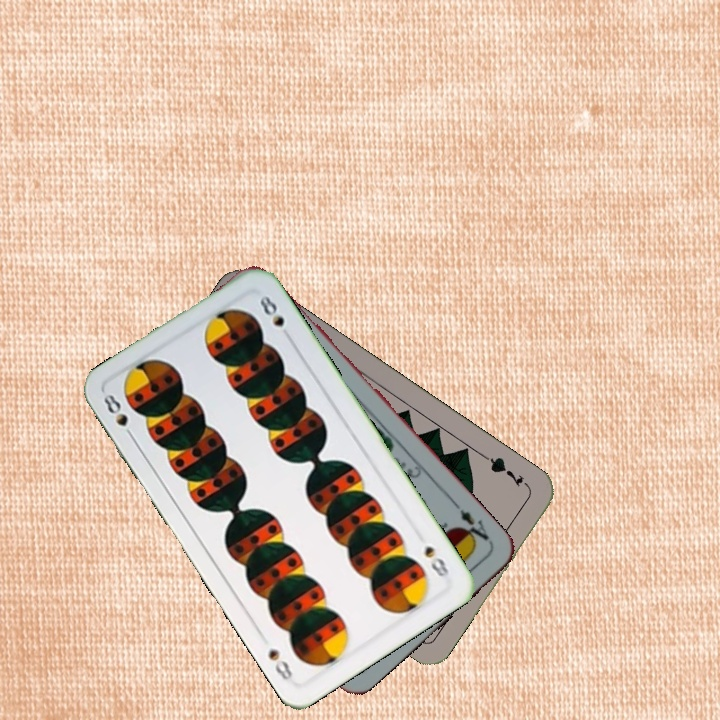EA: (450, 499, 495, 548)
G7: (480, 452, 526, 490)
S8: (96, 390, 138, 443), (420, 541, 452, 580)
